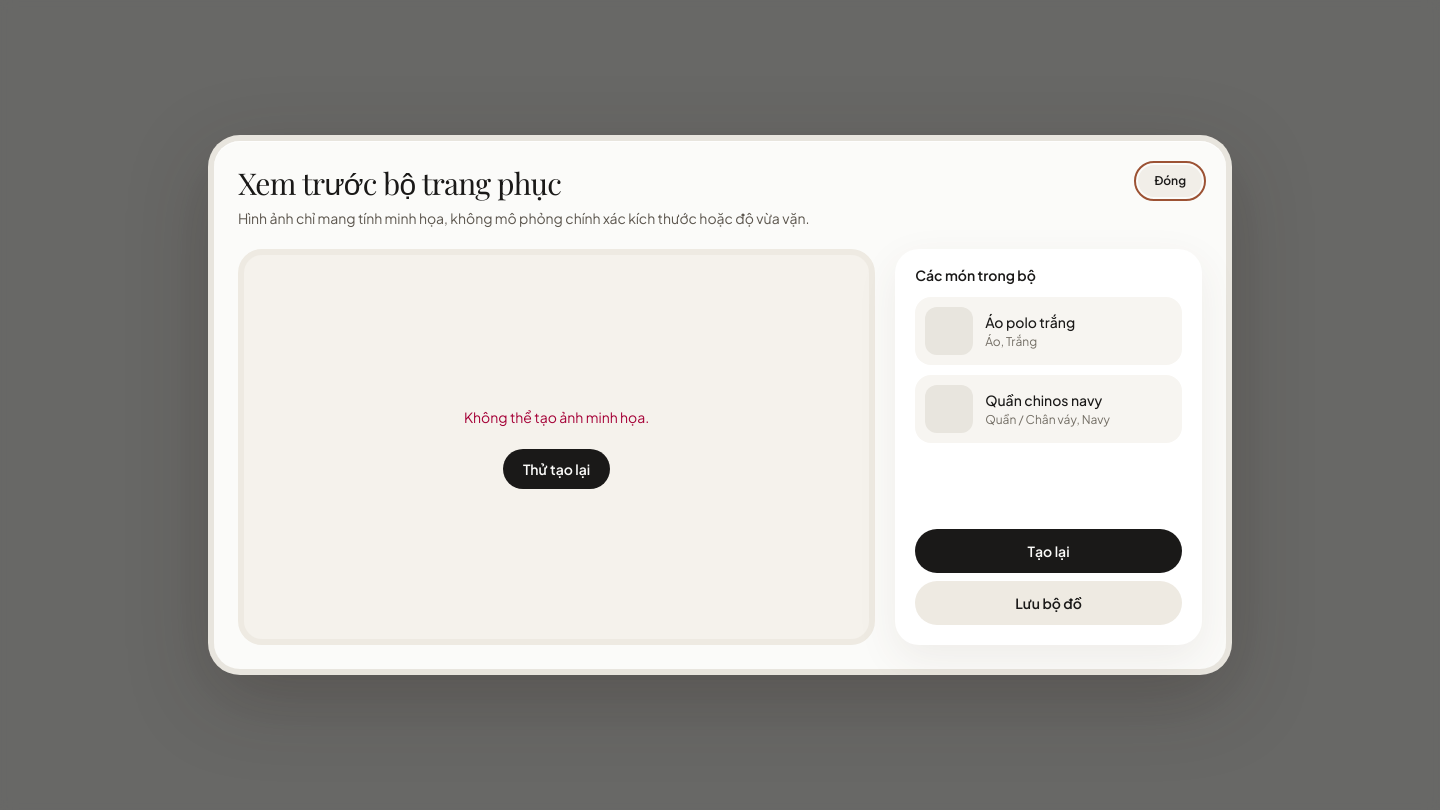
Test: TryOnModal › shows an inline error and allows retry
The image size is (1440, 810).
Expected: the message "Không thể tạo ảnh minh họa." is shown, [464, 406, 649, 429]
Click the button "Thử tạo lại": (557, 469) [503, 449, 610, 489]
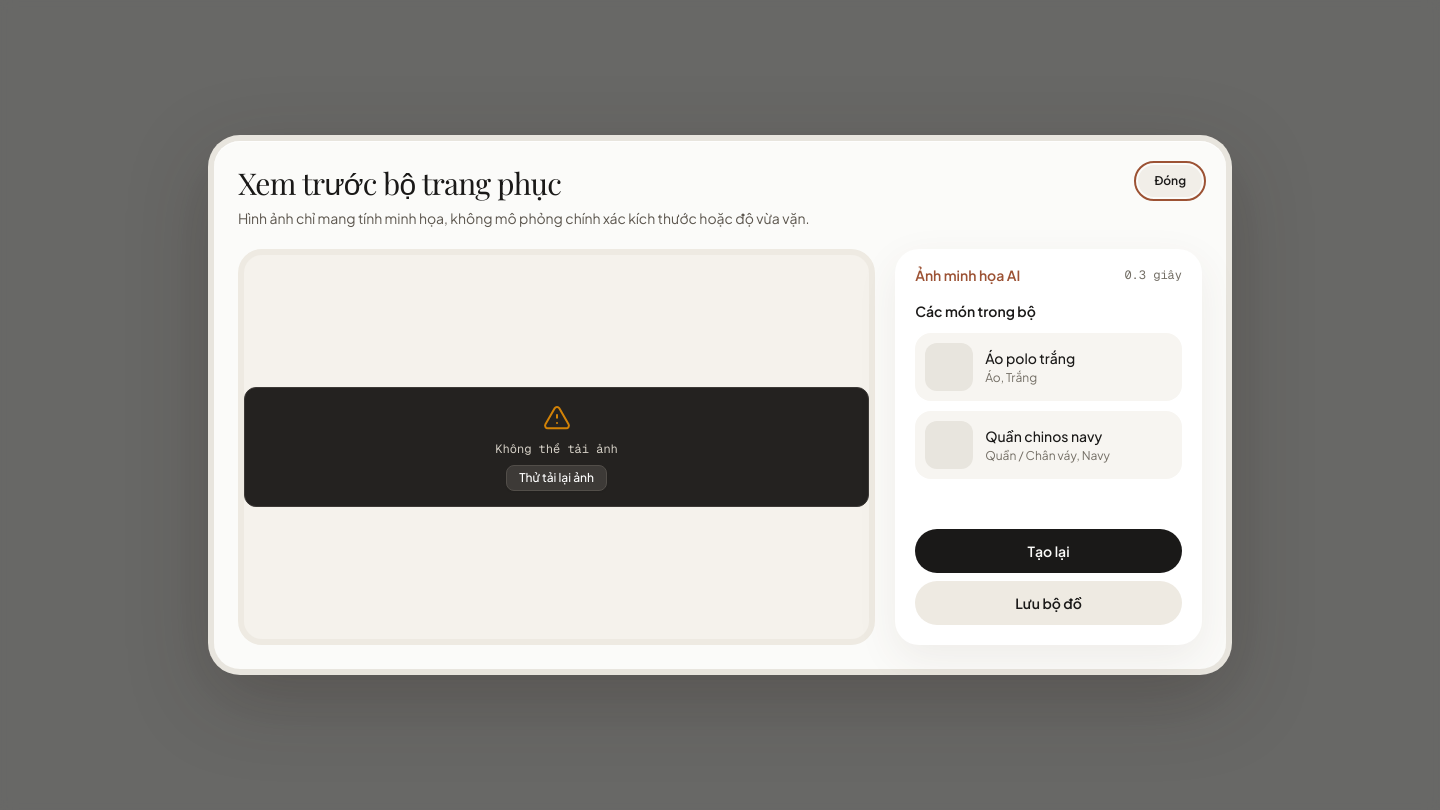
Expected: the text "Ảnh minh họa AI" is shown, [915, 265, 1020, 285]
